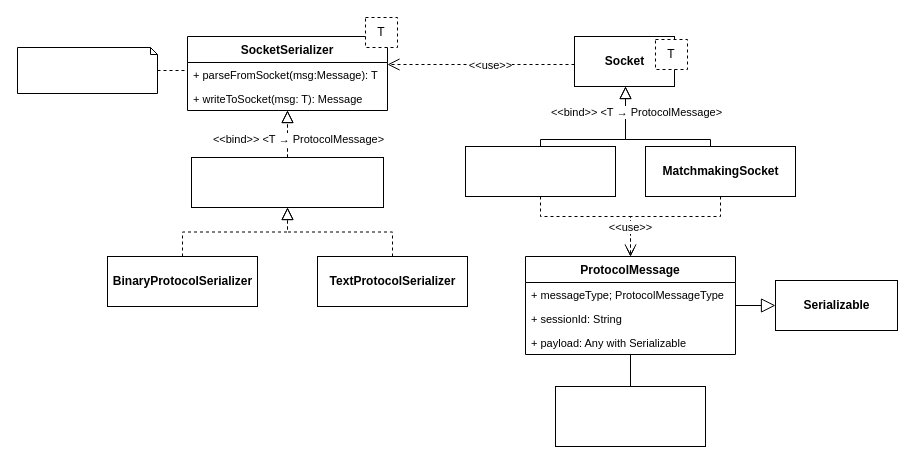
This 915x464 diagram has some shape labels left out. The shapes that lost their labels are listed below. From the top down, each one's centre as x and y in pixels, then its label:
the point at 87,70: 'Message' is the default class that akka use for web socket messages
the point at 287,182: ProtocolMessageSerializer
the point at 540,171: RoomSocket
the point at 630,416: <<enumeration>> ProtocolMessageType
